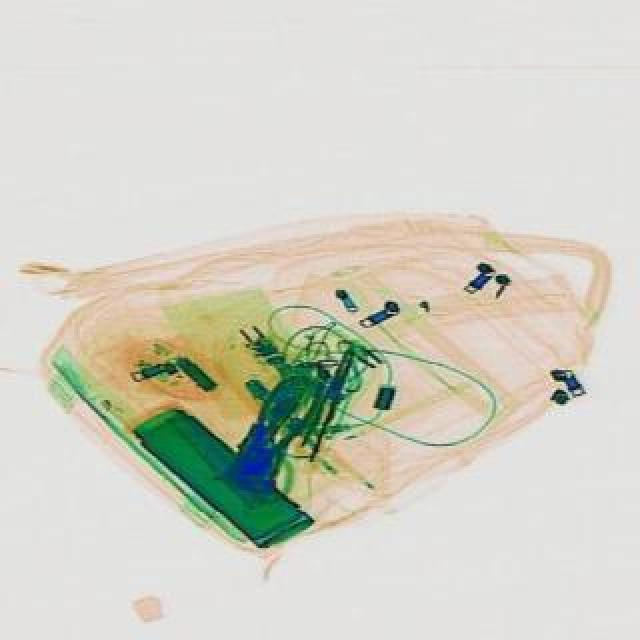wrench: (222, 364, 332, 490)
